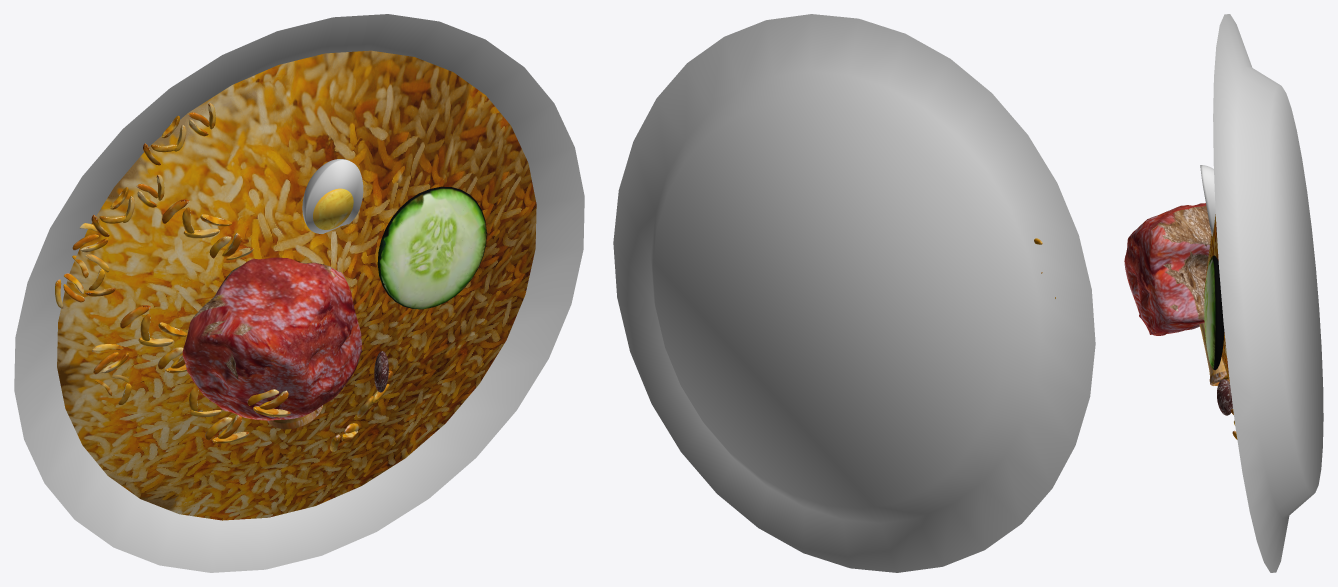
Rendered from smallmtnmandi-v3.glb.
3 views of the same model, side by side, from view 1: azimuth 30°, elevation 25°; view 2: azimuth 150°, elevation 25°; view 3: azimuth 270°, elevation 25° (orthographic). The views are drawn at different scales.
Visible parts, largest first — view 1: Cone, Circle.002, Cube, Sphere.004, Sphere, Plane.026, Plane.025, Plane.028, Plane.009, Plane.008, Plane.010, Plane.004 (+1 smaller); view 2: Circle.002; view 3: Circle.002, Cube, Sphere.004, Sphere, Cone, Cylinder, Sphere.002.
Part boxes in pixels (x1=…): Cone: x1=57, y1=50, x2=536, y2=520; Circle.002: x1=14, y1=14, x2=584, y2=572; Cube: x1=182, y1=257, x2=361, y2=420; Sphere.004: x1=377, y1=186, x2=486, y2=309; Sphere: x1=302, y1=159, x2=363, y2=233; Plane.026: x1=162, y1=199, x2=253, y2=259; Plane.025: x1=120, y1=305, x2=187, y2=373; Plane.028: x1=189, y1=386, x2=249, y2=443; Plane.009: x1=91, y1=174, x2=164, y2=236; Plane.008: x1=72, y1=223, x2=115, y2=296; Plane.010: x1=143, y1=103, x2=215, y2=165; Plane.004: x1=92, y1=344, x2=131, y2=404; Circle.002: x1=613, y1=14, x2=1095, y2=572; Circle.002: x1=1213, y1=14, x2=1323, y2=572; Cube: x1=1124, y1=203, x2=1211, y2=335; Sphere.004: x1=1204, y1=255, x2=1224, y2=370; Sphere: x1=1200, y1=165, x2=1215, y2=235; Cone: x1=1203, y1=214, x2=1229, y2=383; Cylinder: x1=1199, y1=323, x2=1229, y2=385; Sphere.002: x1=1217, y1=379, x2=1232, y2=415.
Size of the model in its own units: 7.81 by 7.77 by 2.77.
Materials: 19 (17 with a texture image).
